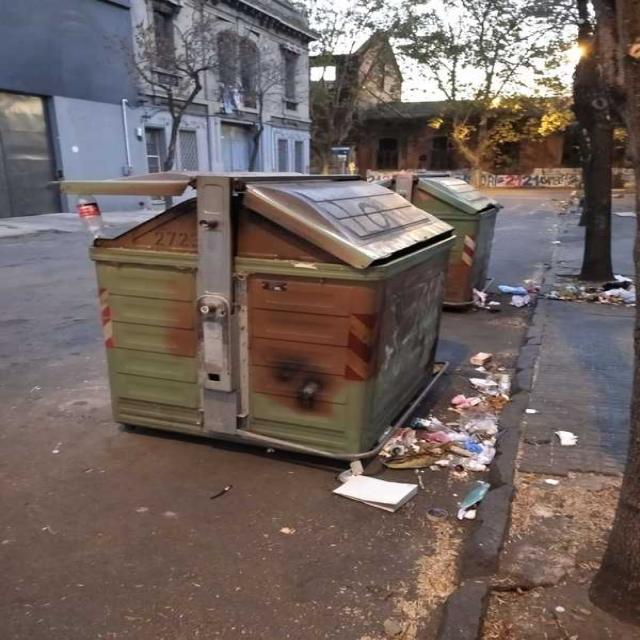garbage: (433, 343, 523, 531), (328, 416, 434, 521), (558, 272, 639, 320), (468, 276, 554, 312), (72, 190, 116, 244), (546, 417, 588, 456)
